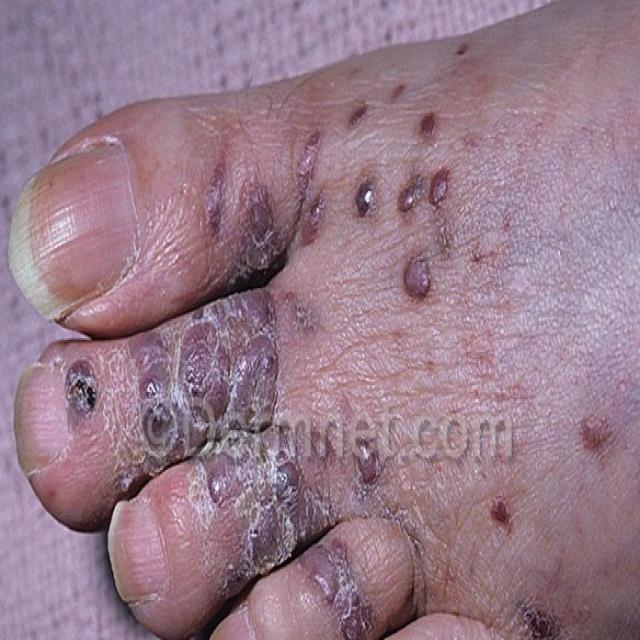Vascular Tumors: (174, 74, 523, 284), (57, 293, 337, 533), (239, 548, 390, 640), (505, 583, 589, 640), (570, 397, 629, 475), (481, 473, 527, 551), (355, 419, 396, 482)
